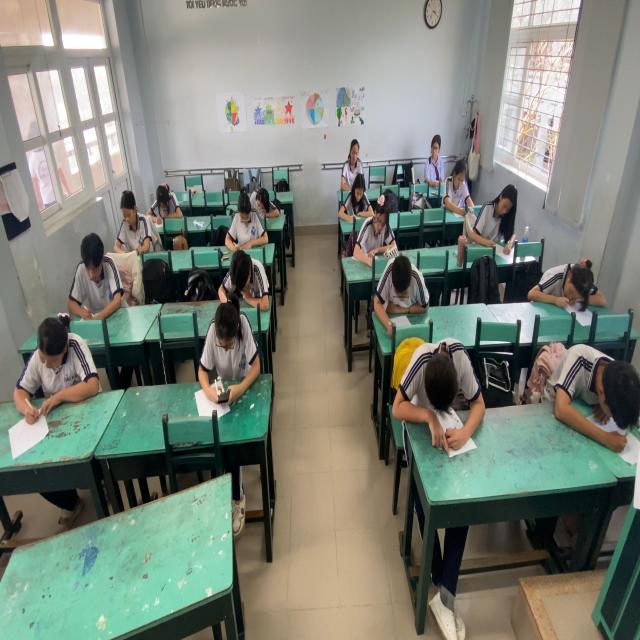not_cheating: (8, 312, 98, 419), (554, 342, 640, 418), (395, 340, 482, 412), (66, 229, 120, 319), (203, 292, 255, 378), (366, 243, 426, 315), (535, 267, 611, 322), (471, 178, 516, 250), (214, 243, 264, 301), (111, 188, 150, 252), (142, 177, 185, 225), (366, 198, 399, 260), (438, 164, 478, 211), (228, 188, 256, 250), (424, 122, 450, 184), (334, 139, 368, 177), (251, 188, 284, 222), (346, 174, 369, 218)
